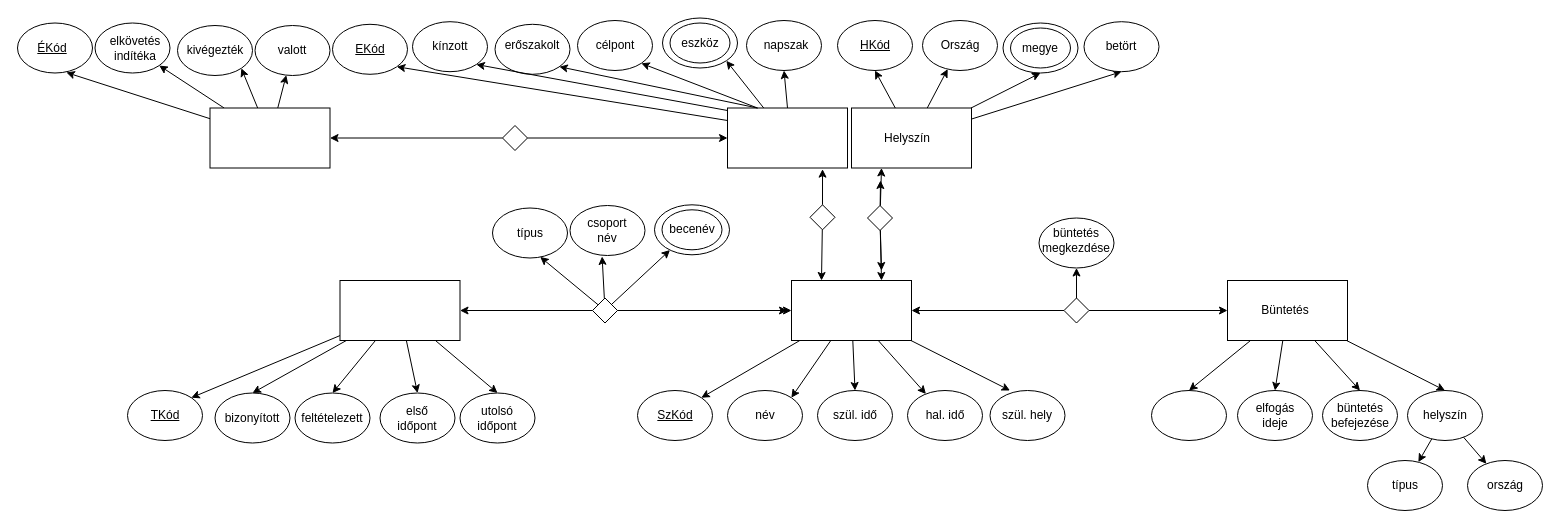
This 1560x528 diagram has some shape labels left out. The shapes that lost their labels are listed below. From the top down, each one's box as (x1, y1, x2, y2) in pixels, then its label:
(209, 107, 330, 168): Érdekességek
(726, 107, 848, 168): Elkövetés módja
(339, 280, 460, 340): Tevékenység
(790, 280, 912, 340): Személyek
(1150, 390, 1226, 440): BKód
